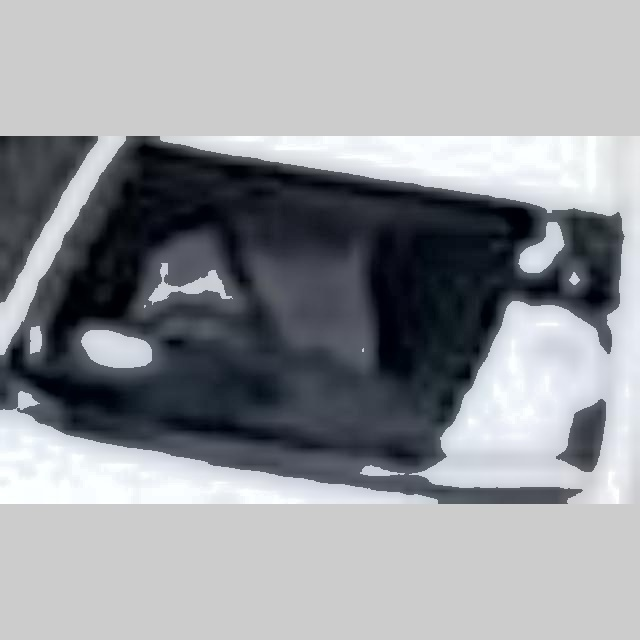pakai: (140, 206, 395, 390)
